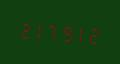nine: (60, 20, 73, 44)
one: (31, 18, 44, 42), (74, 21, 87, 45)
seven: (46, 19, 59, 43)
two: (88, 21, 101, 46), (17, 17, 30, 41)
